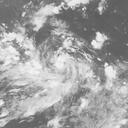cyclone: (31, 43, 94, 100)
